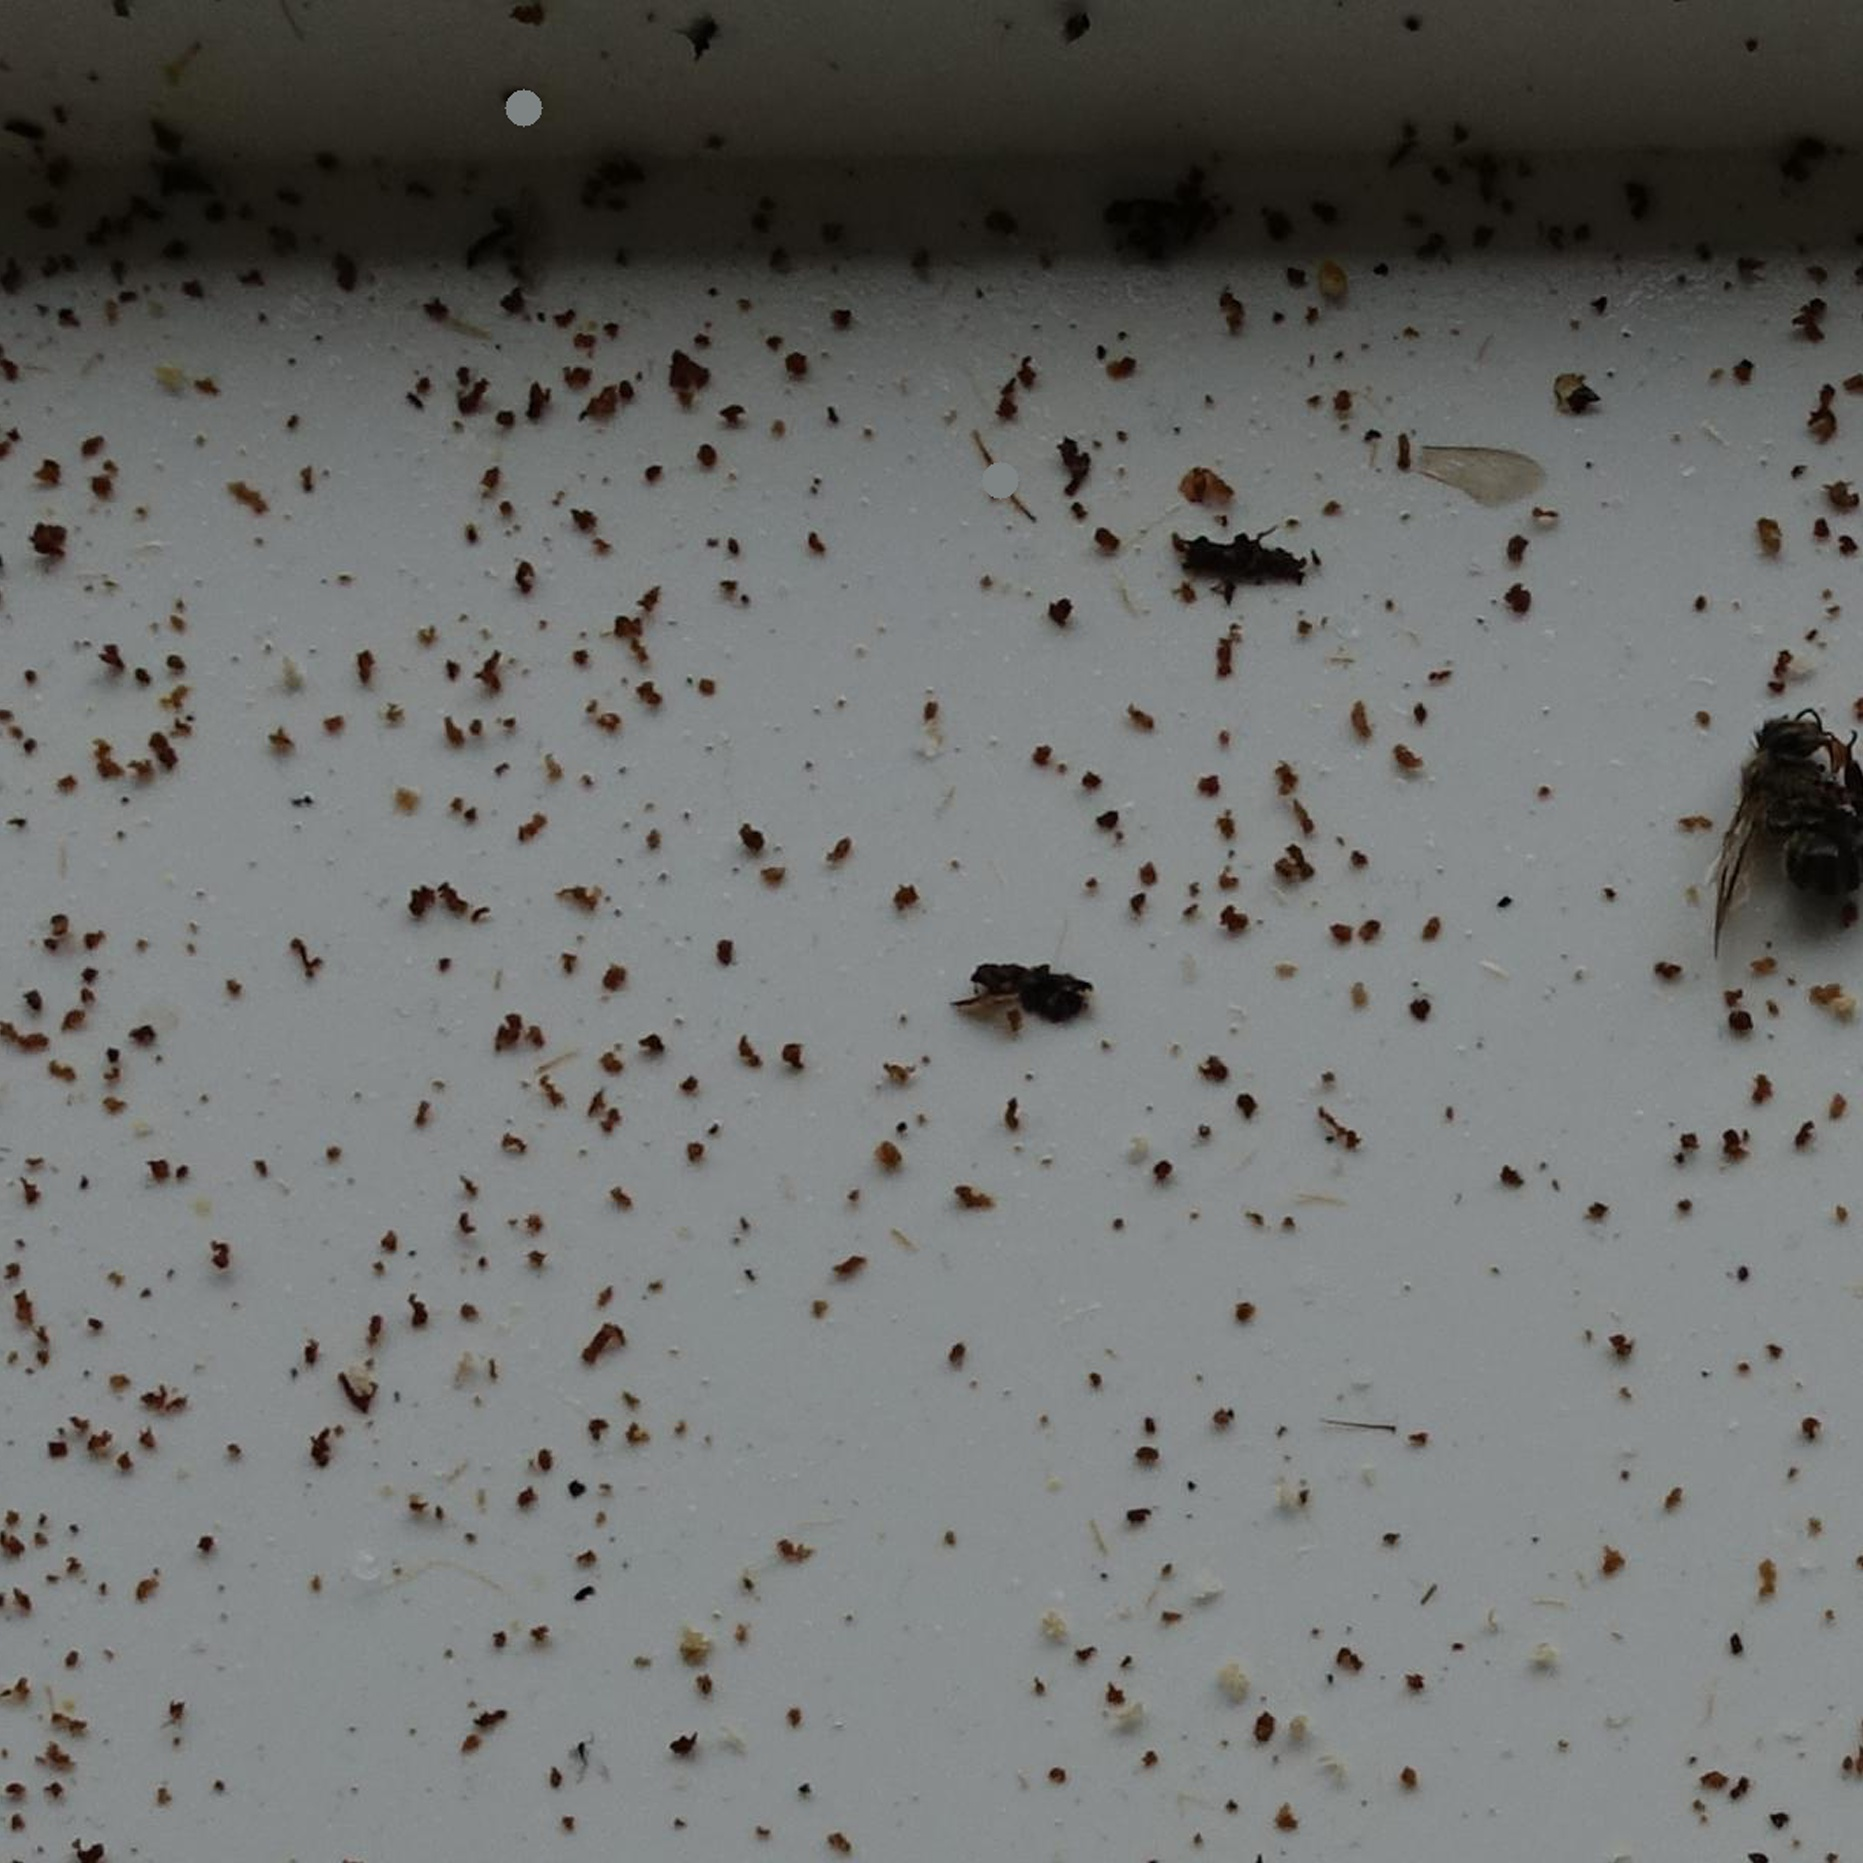Varroa: (1728, 1003, 1756, 1030)
